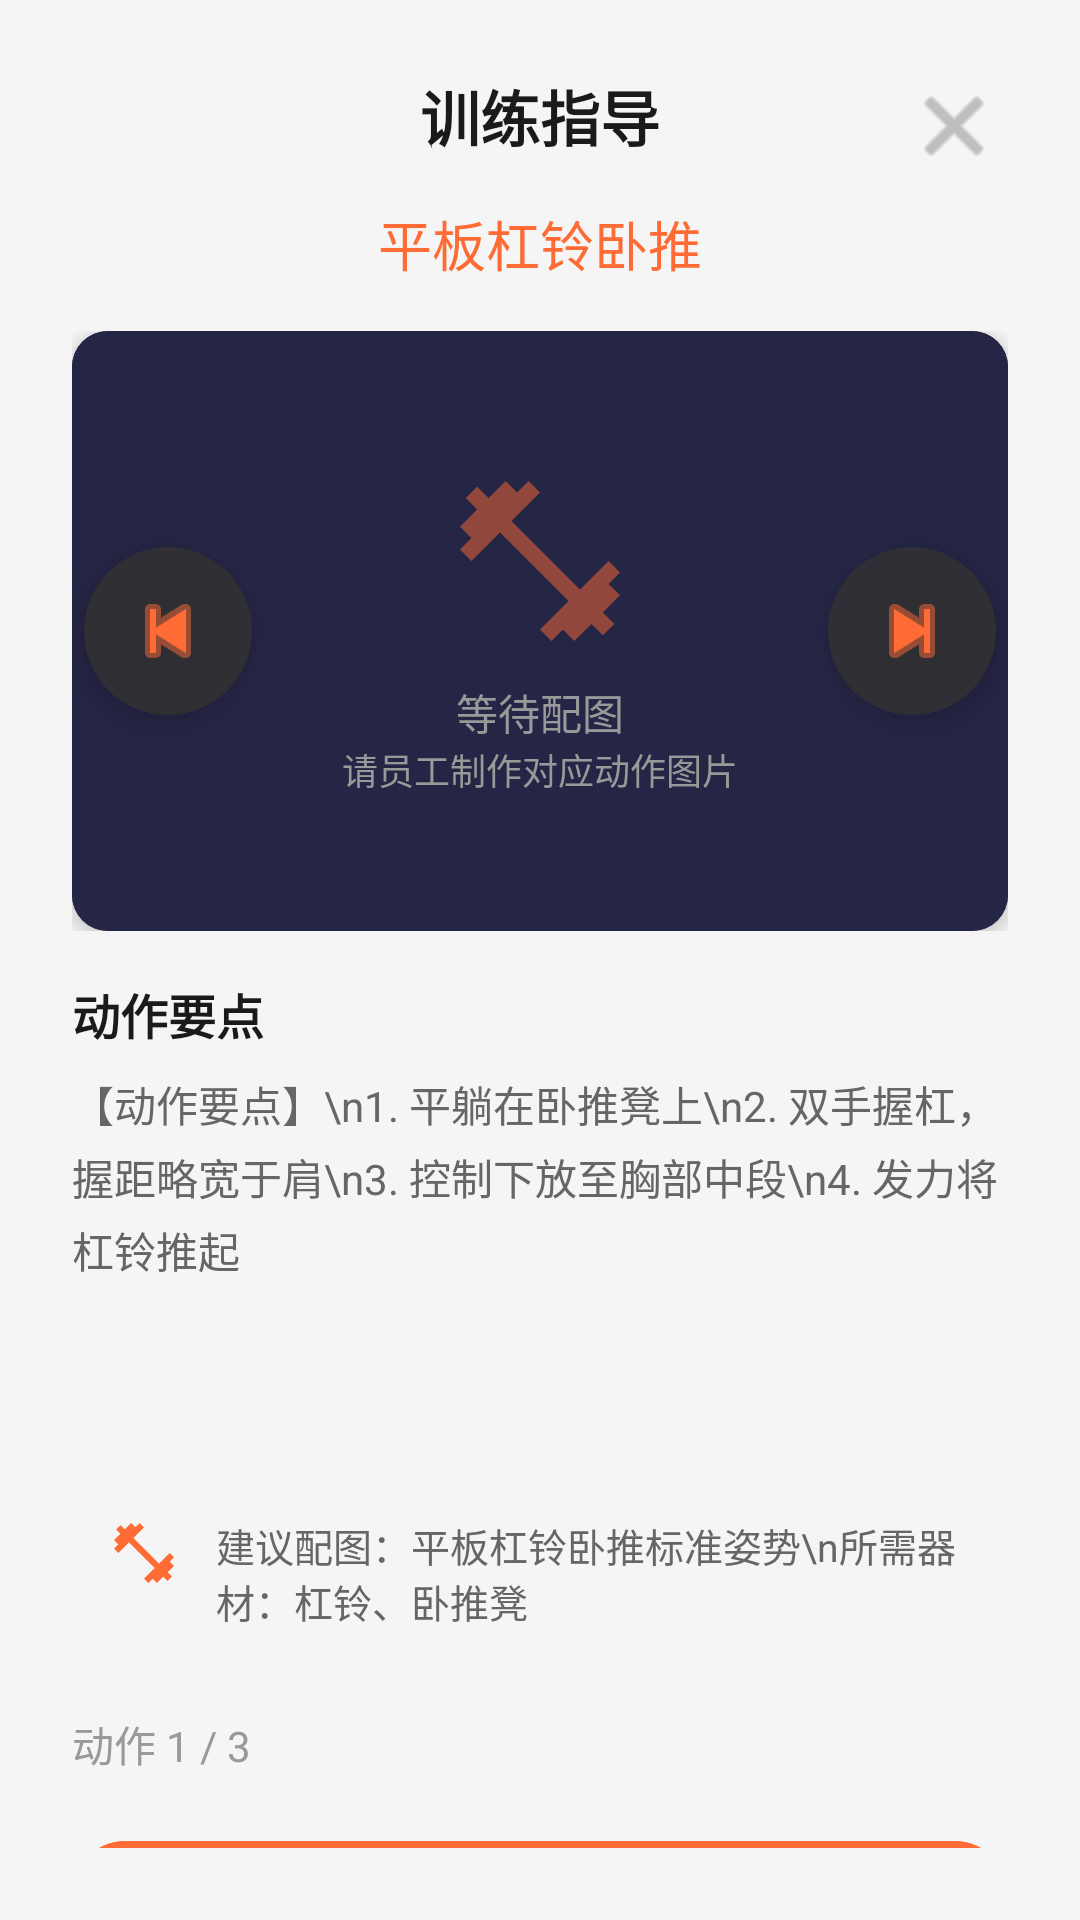

Icon bounding boxes for this 1080*1920 phone screenshot, format (x1, y1, x2, y2):
上一个: (145, 604, 191, 658)
下一个: (889, 604, 935, 658)
关闭: (925, 97, 983, 155)
